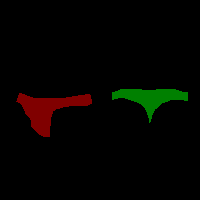mutande: (16, 92, 92, 137), (111, 88, 188, 128)
